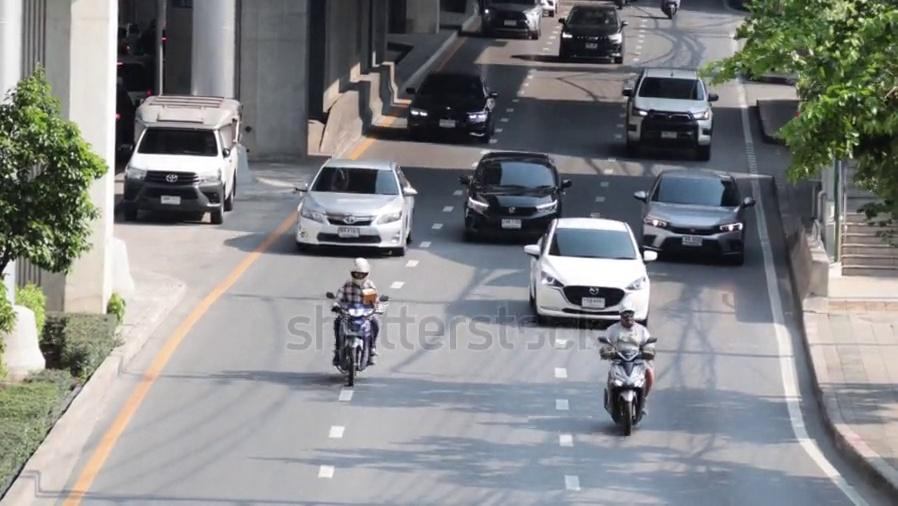rider: (598, 303, 656, 414), (328, 256, 384, 366)
with_helmate: (349, 256, 369, 284), (619, 304, 638, 326)
